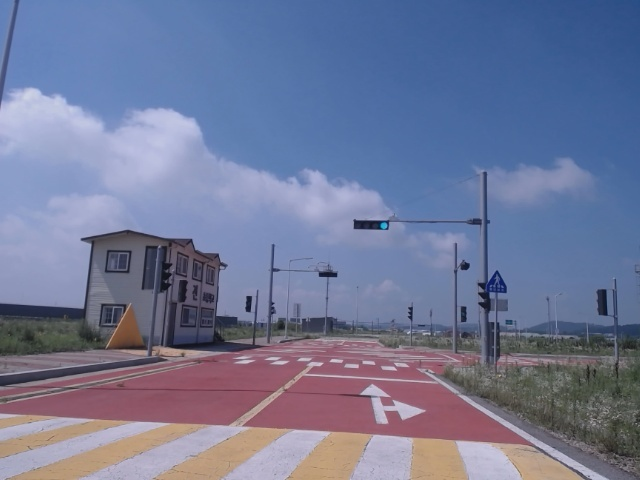straight_green_4: (354, 220, 389, 230)
